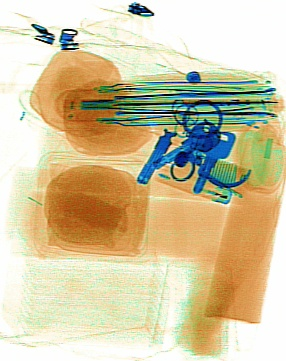lighter: (151, 161, 232, 204)
